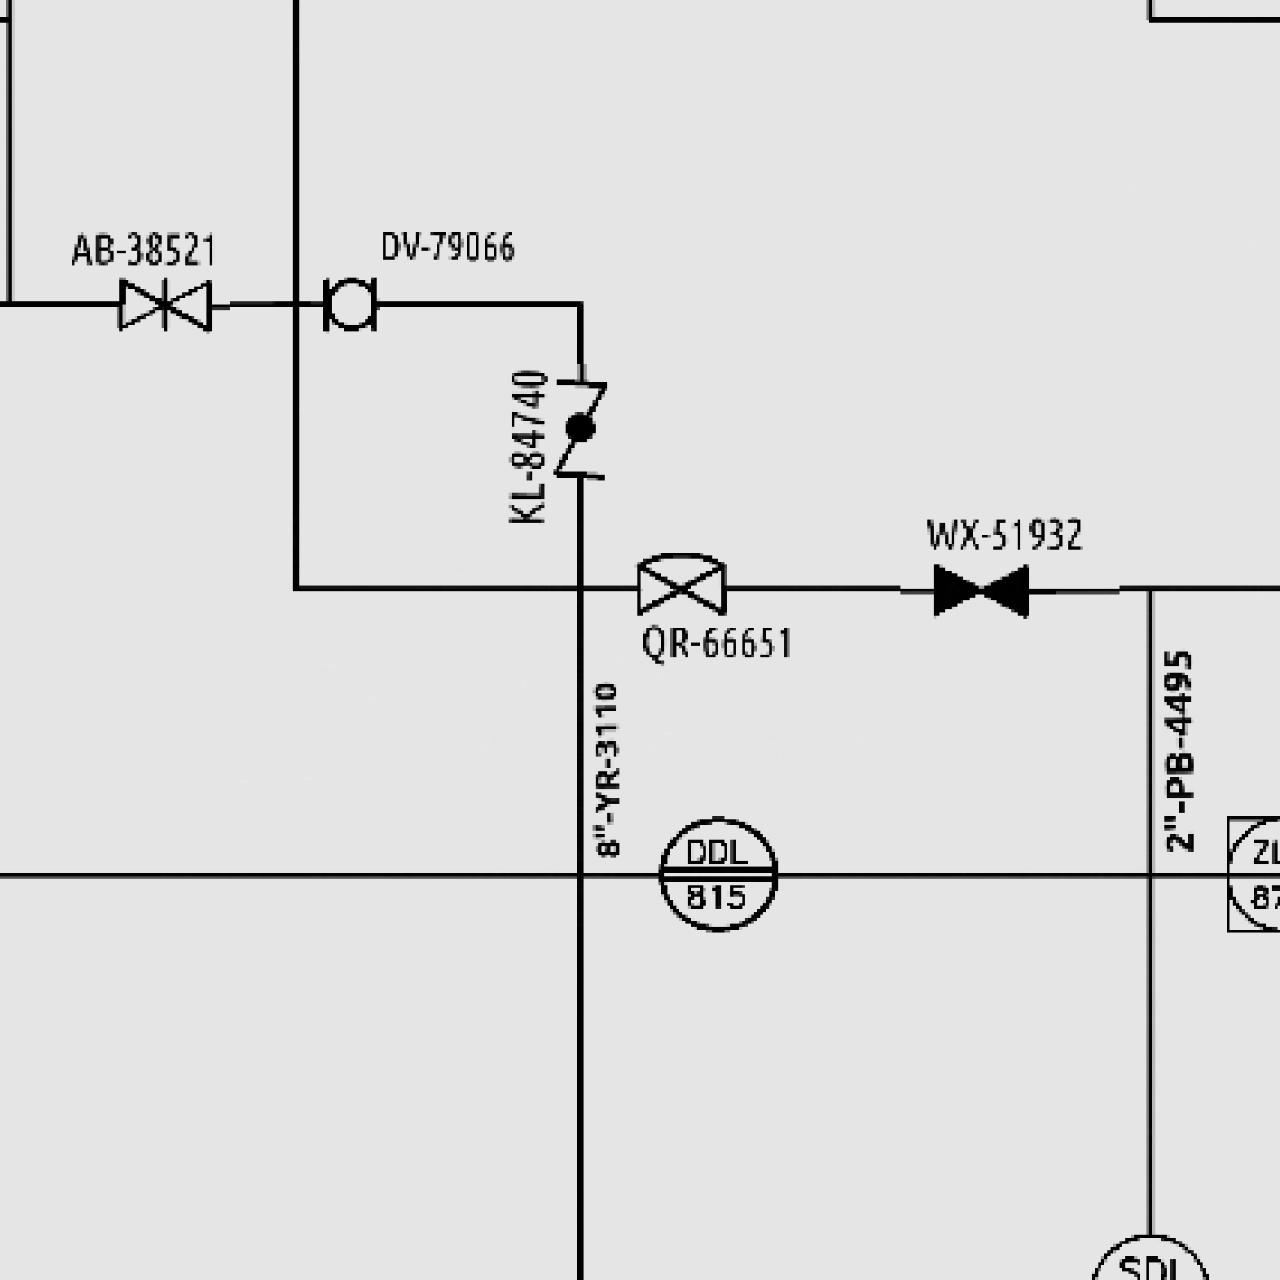Control-Panel: (654, 810, 781, 937)
